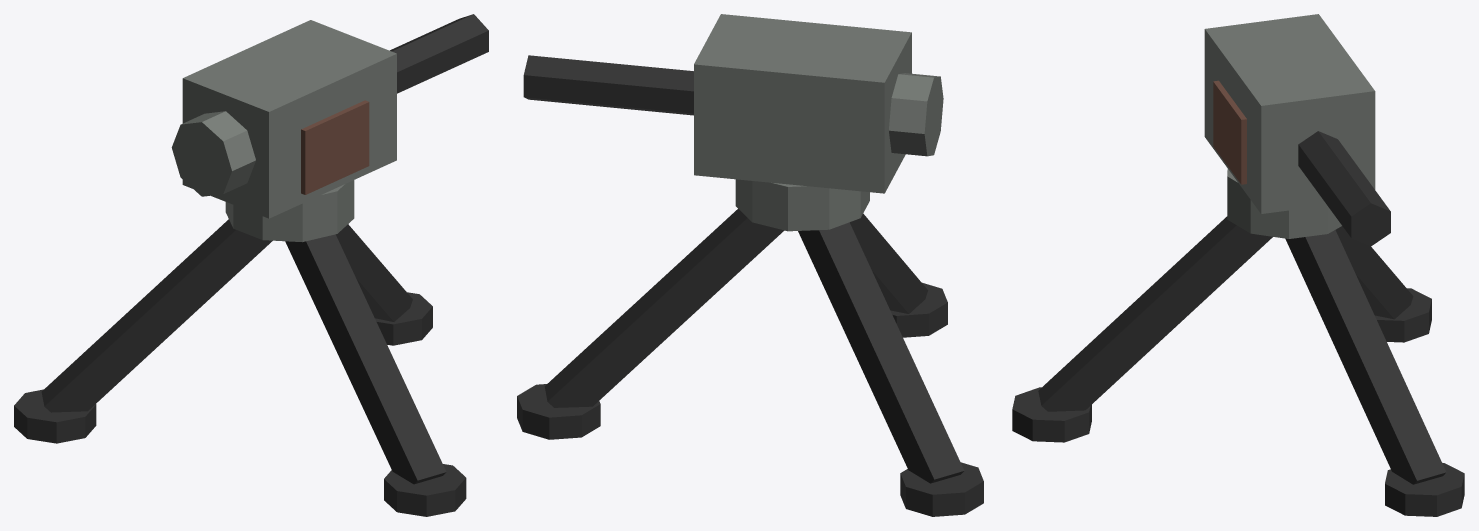
The model's file is ancient_security_turret_1.obj.
3 renders of one model, left to right at view 1: azimuth 30°, elevation 25°; view 2: azimuth 150°, elevation 25°; view 3: azimuth 270°, elevation 25°, orthographic. The views are drawn at different scales.
Parts seen in each view (by area): view 1: ancient_security_turret_1; view 2: ancient_security_turret_1; view 3: ancient_security_turret_1.
Part boxes in pixels (<box>): ancient_security_turret_1: <box>14,14,488,516</box>; ancient_security_turret_1: <box>517,14,983,516</box>; ancient_security_turret_1: <box>1012,14,1464,516</box>.
Size of the model in its own units: 0.8782 by 0.66 by 0.7581.
